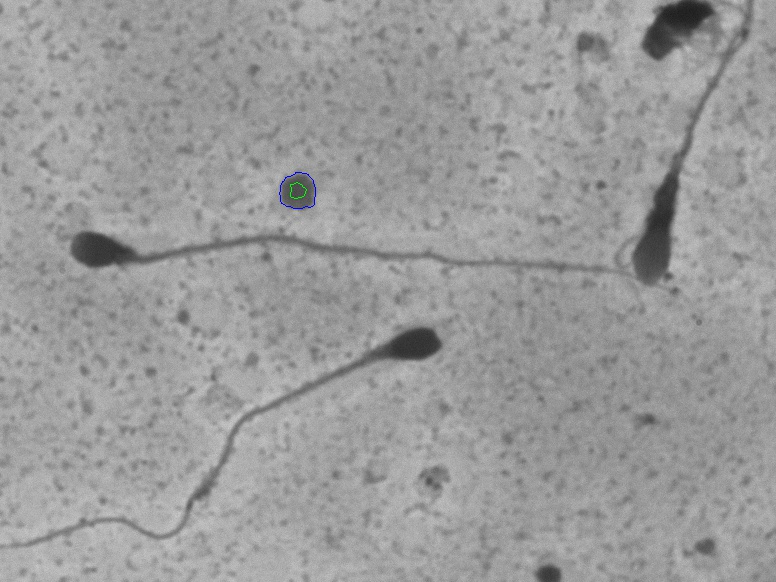Abnormal: (70, 325, 465, 564), (47, 193, 638, 323), (545, 50, 760, 308)
